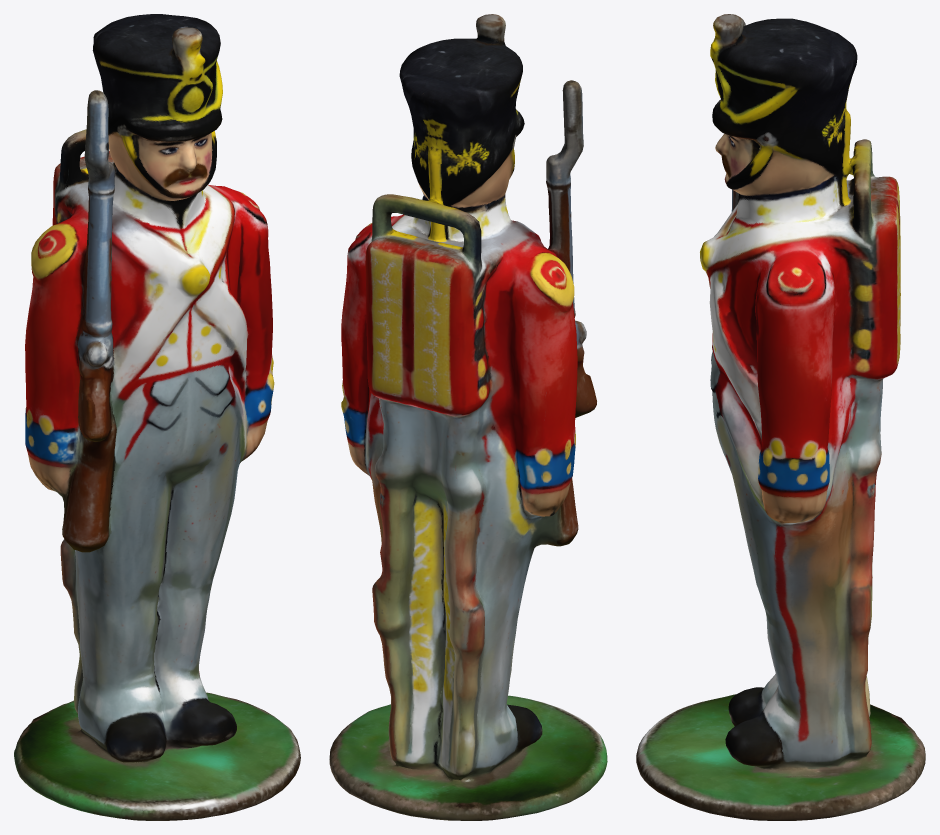
File: infantry.glb
3 renders of one model, left to right at view 1: azimuth 30°, elevation 25°; view 2: azimuth 150°, elevation 25°; view 3: azimuth 270°, elevation 25°, orthographic. The views are drawn at different scales.
Visible parts, largest first — view 1: world; view 2: world; view 3: world.
Boxes of the visible parts, box(x1,y1,x2,y2) form: world: box(14, 14, 300, 820); world: box(329, 14, 607, 820); world: box(636, 14, 925, 820).
Size of the model in its own units: 0.3475 by 1 by 0.3529.
1 material, 1 textured.
